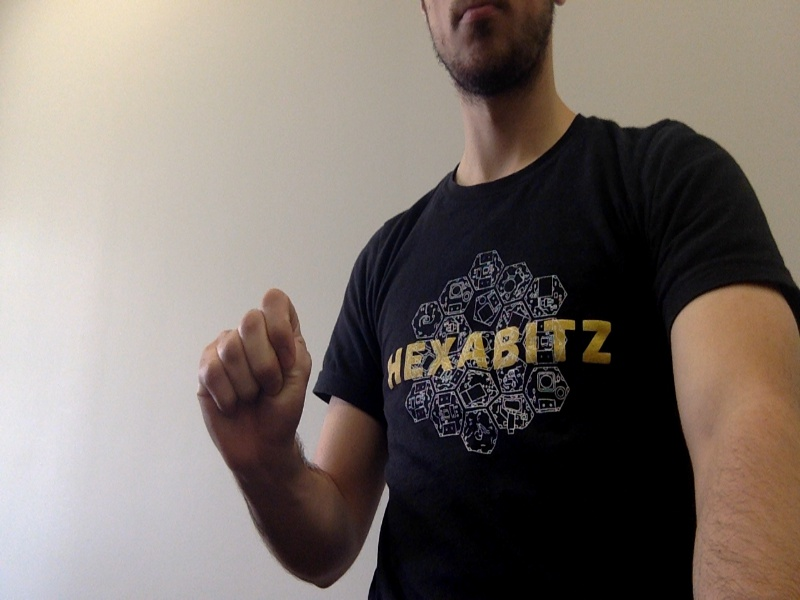0-hand: (198, 291, 310, 458)
